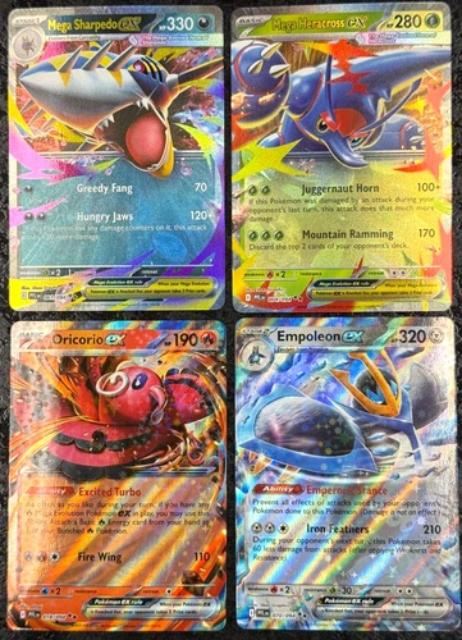Card: (232, 312, 461, 634), (3, 315, 229, 634), (227, 0, 456, 314), (4, 1, 225, 312)
Name: (274, 320, 370, 346), (270, 10, 369, 35), (45, 12, 143, 35), (49, 328, 127, 349)
